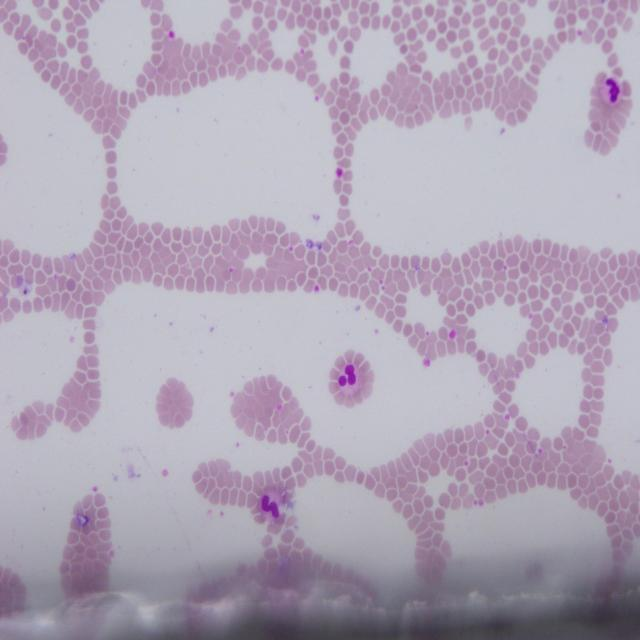cell: (338, 363, 362, 395), (260, 491, 281, 521), (600, 76, 621, 105)
